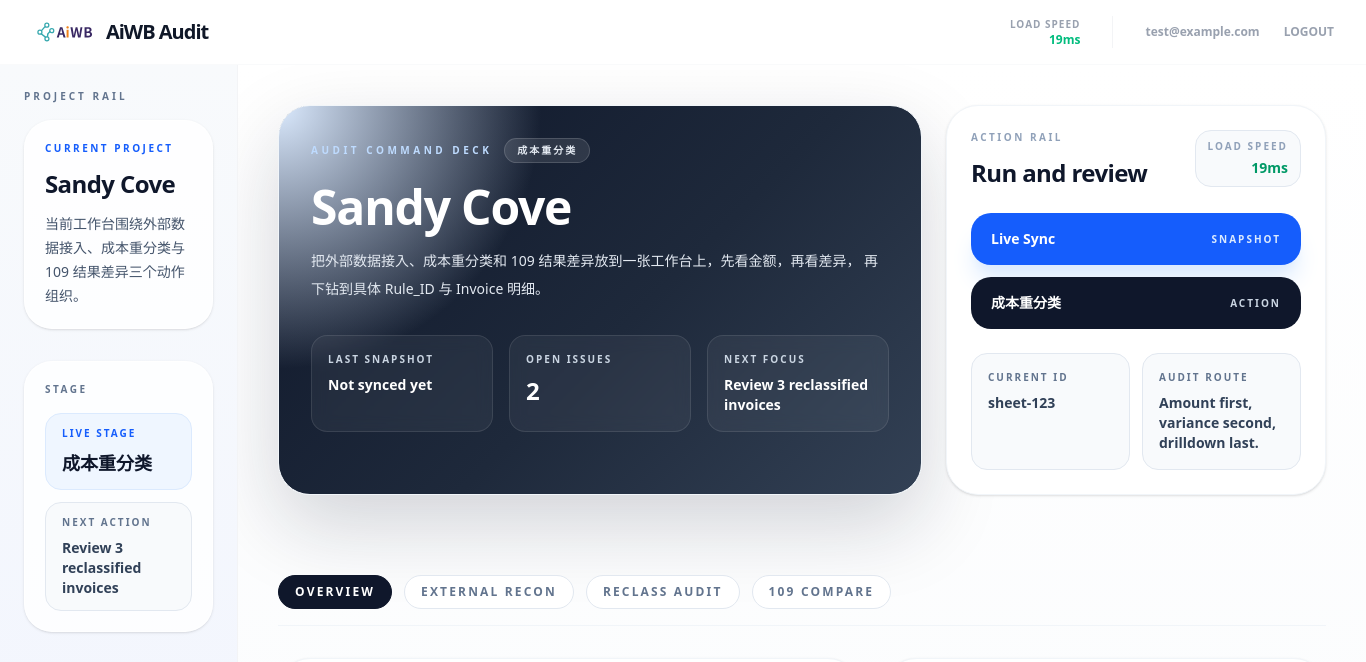
phase 1 workbench page › switches tabs and reveals the detailed audit sections
This screenshot has width=1366, height=662.
Expected: the heading "Sandy Cove" below "Current Project" is shown, [45, 167, 175, 200]
What coordinates should you click on to do the following:
click the button "External Recon"
I would click on:
 (489, 592)
Its box is [404, 575, 574, 609].
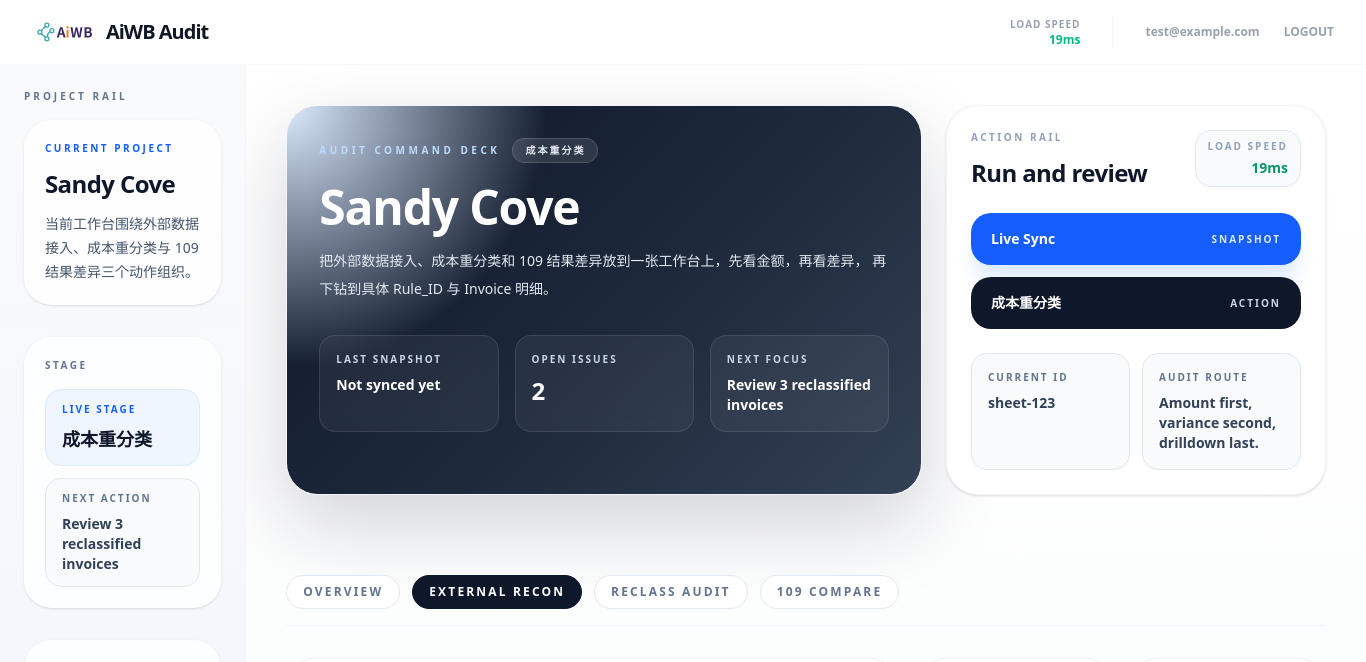
What coordinates should you click on to do the following:
click the button "Reclass Audit"
I would click on:
 (671, 592)
Its box is [594, 575, 748, 609].
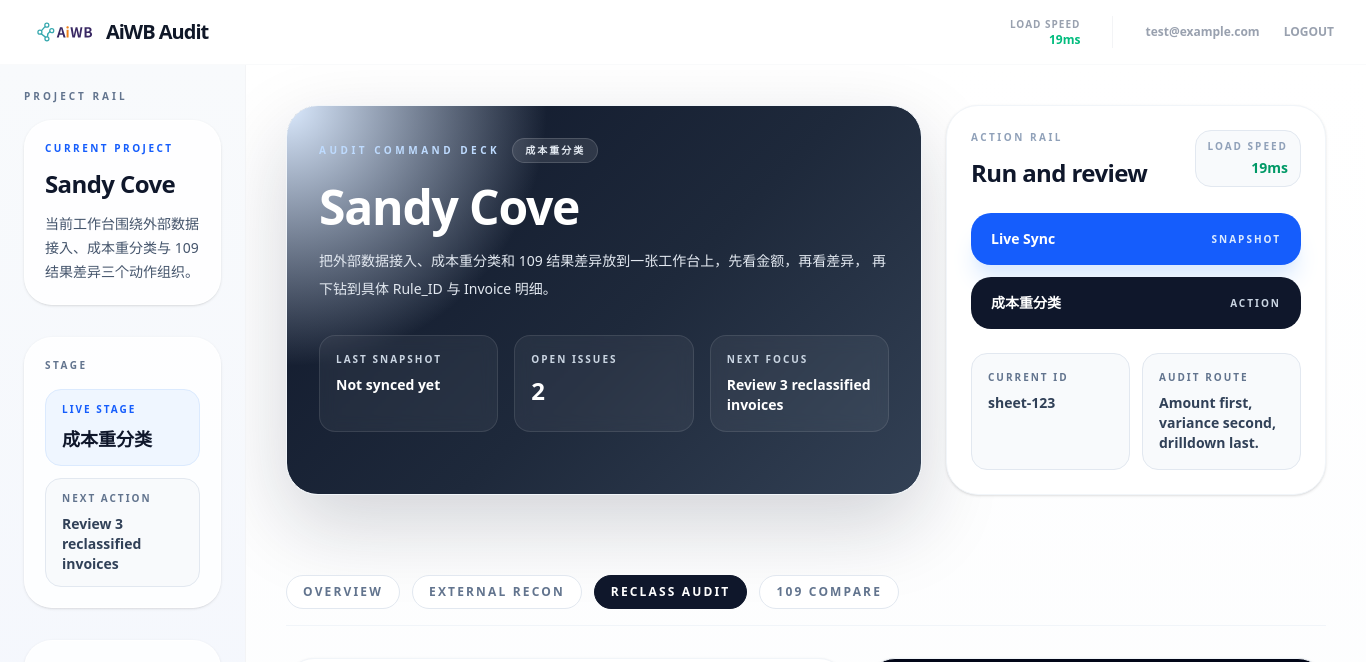
What coordinates should you click on to do the following:
click the button "109 Compare"
I would click on:
 (829, 592)
Its box is [760, 575, 899, 609].
(page scrolled)
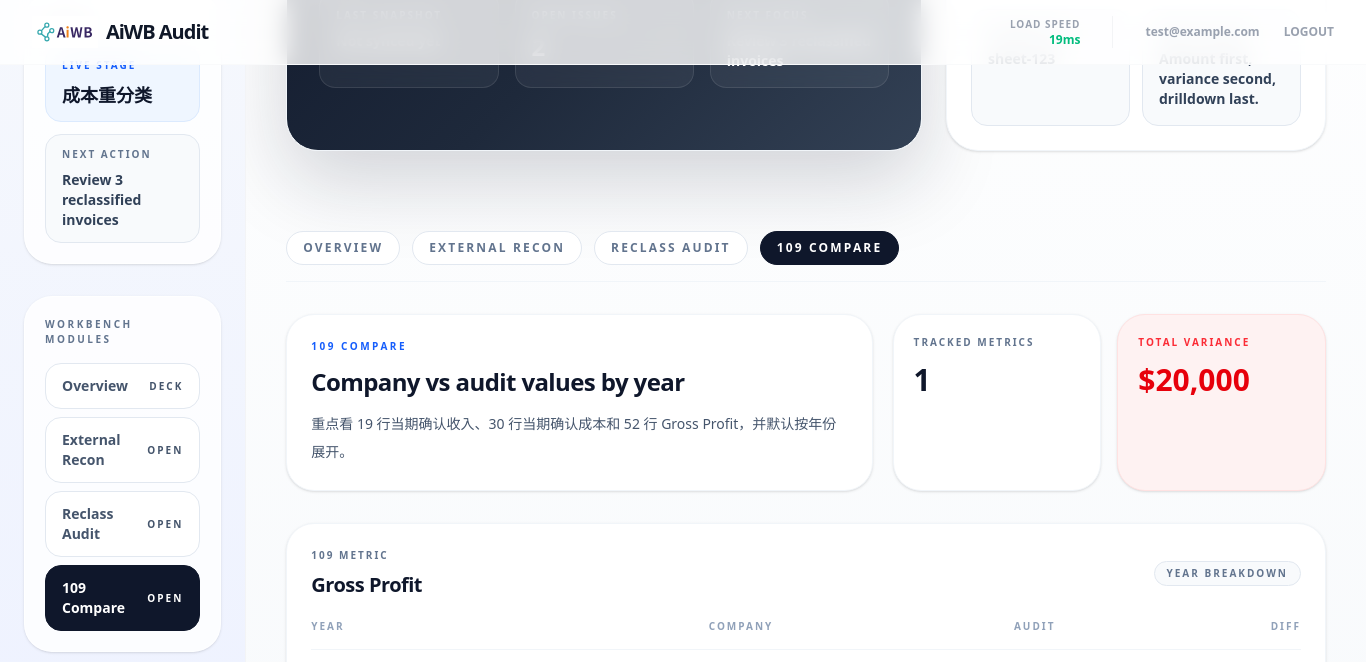
Expected: the heading "Gross Profit" is shown, [311, 571, 422, 599]
